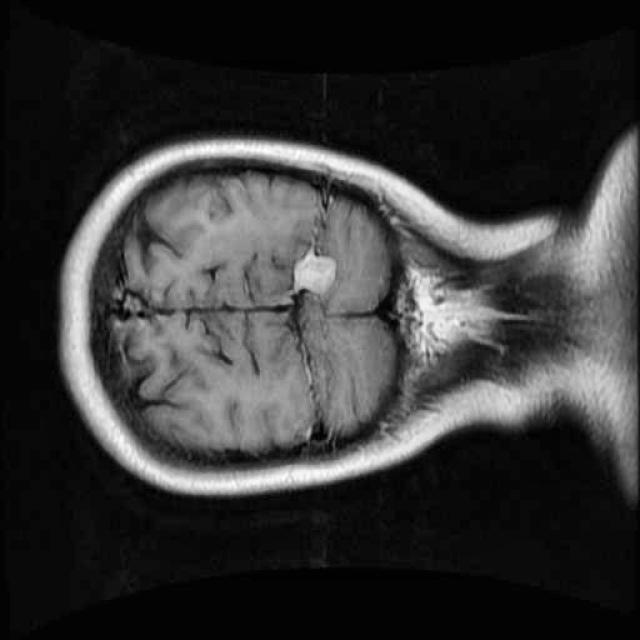Tumor: (279, 236, 358, 312)
